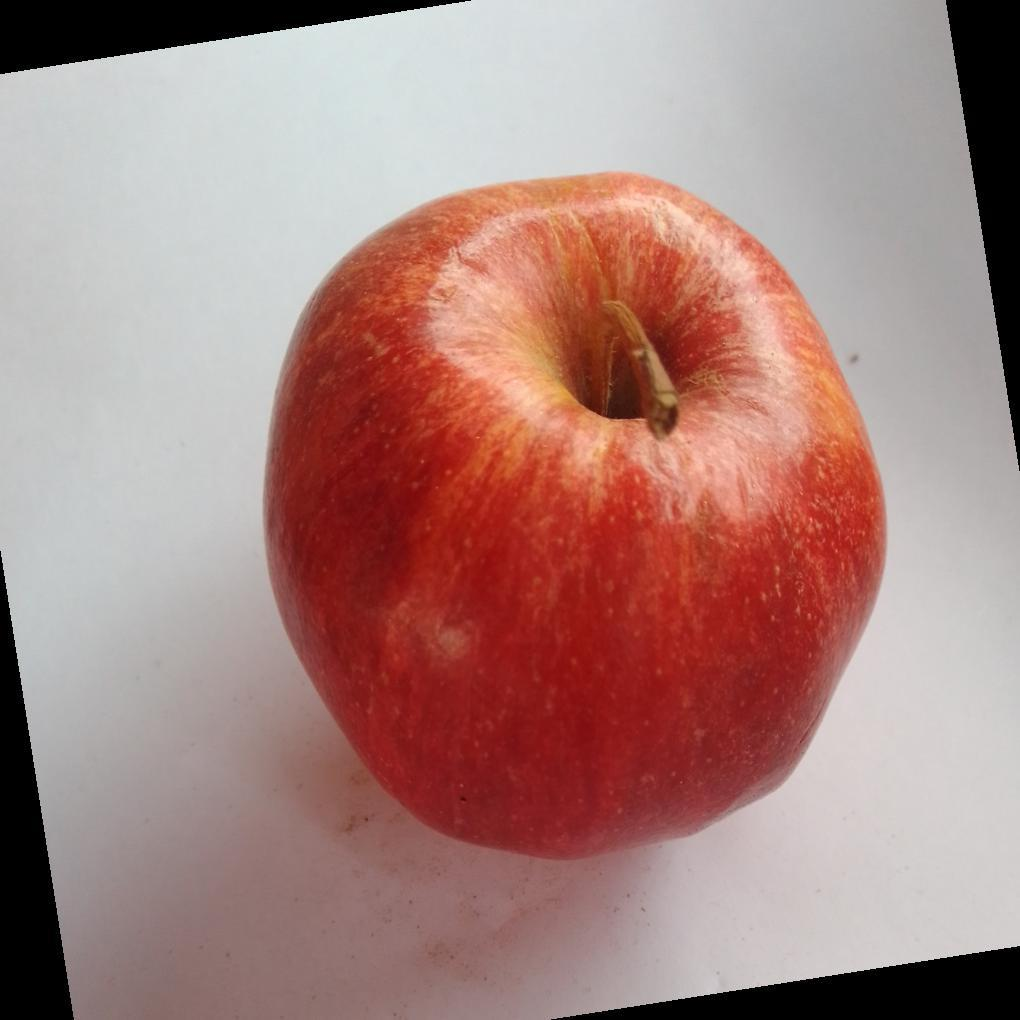FreshGuava: (261, 173, 888, 864)
